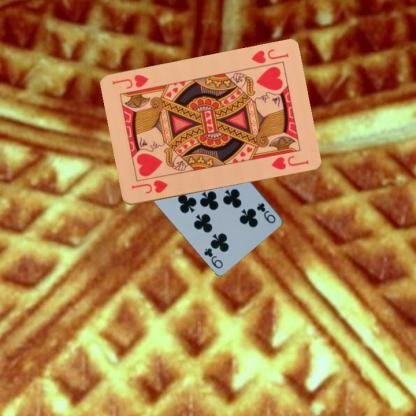9c: (254, 200, 277, 225)
Jh: (247, 47, 290, 70), (128, 178, 169, 196)
